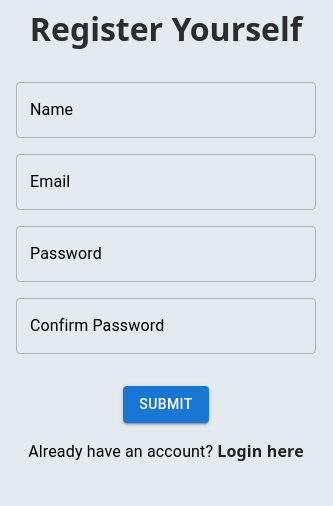
it: register › register function › with failure › should return error
The width and height of the screenshot is (333, 506).
Type "Test" into the field labelled "Name" at (166, 110), box [16, 82, 316, 138]
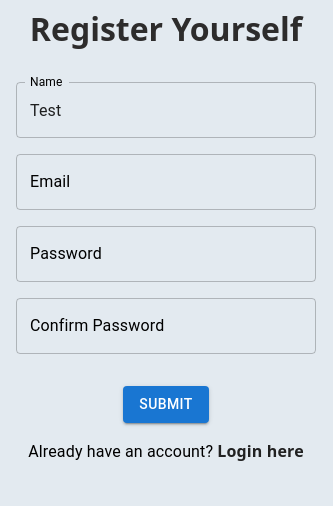
Type "test2@example.com" into the field labelled "Email" at (166, 182), box [16, 154, 316, 210]
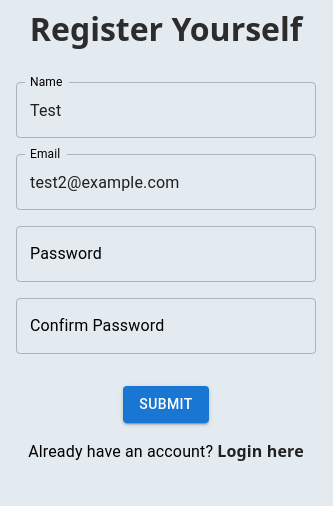
Type "testpassword" into the password field labelled "Password" at (166, 254), box [16, 226, 316, 282]
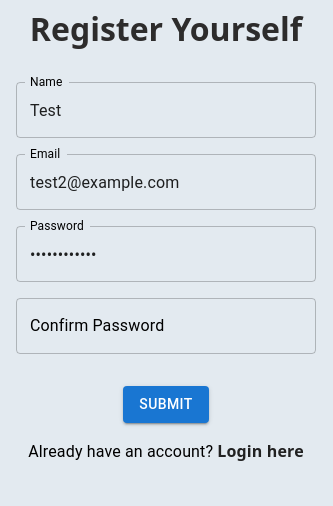
Type "testpassword" into the password field labelled "Confirm Password" at (166, 326), box [16, 298, 316, 354]
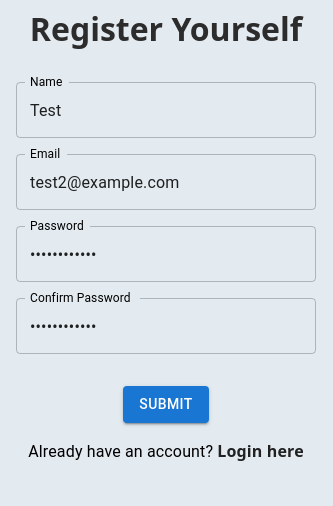
Click the button at (166, 404), box [123, 386, 209, 422]
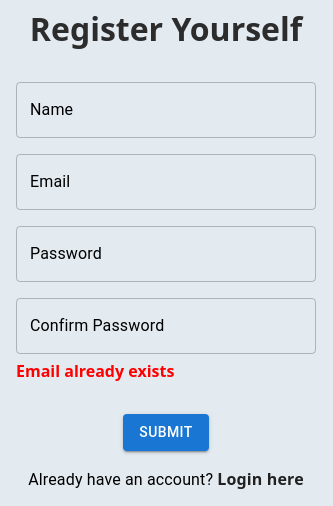
Check: the text "Email already exists" is shown, box [16, 360, 174, 382]
